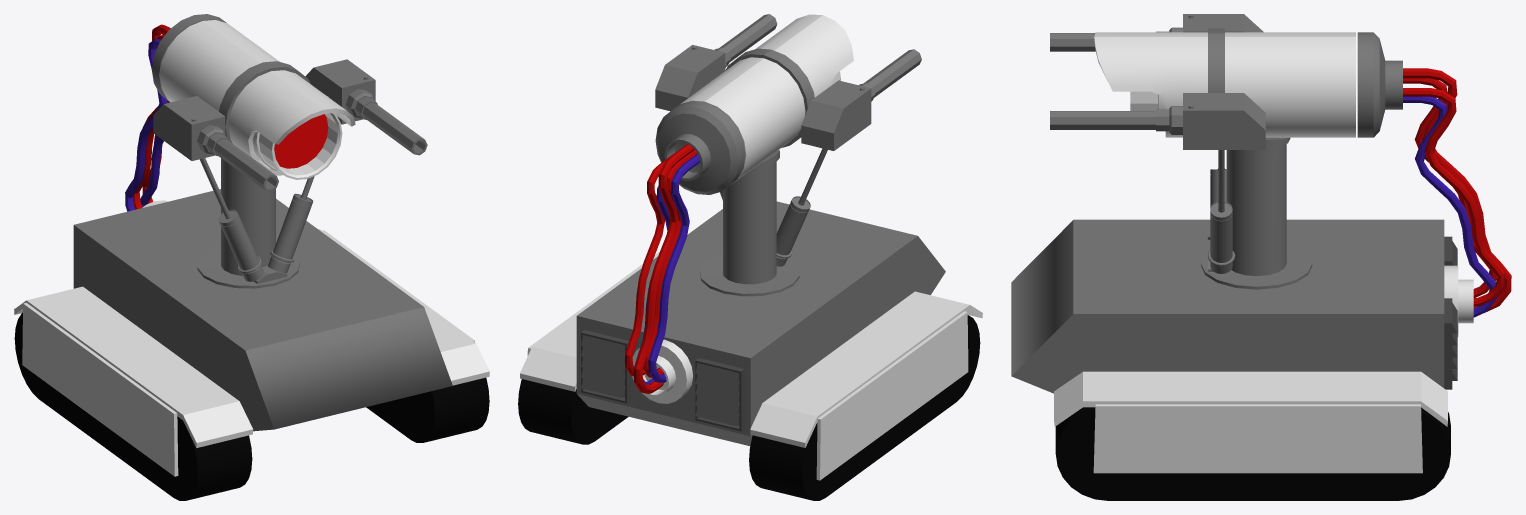
The model's file is SecuityRobotBasColour.fbx.
The picture shows the model from 3 angles, left to right: view 1: azimuth 30°, elevation 25°; view 2: azimuth 150°, elevation 25°; view 3: azimuth 270°, elevation 25°; orthographic projection. The views are drawn at different scales.
Visible parts, largest first — view 1: SecurityBot; view 2: SecurityBot; view 3: SecurityBot.
Boxes of the visible parts, bbox=[...] form: SecurityBot: bbox=[14, 14, 489, 500]; SecurityBot: bbox=[518, 14, 982, 500]; SecurityBot: bbox=[1011, 14, 1511, 500].
Bounding box in the file's own units: 16.14 × 18.5 × 21.53.
